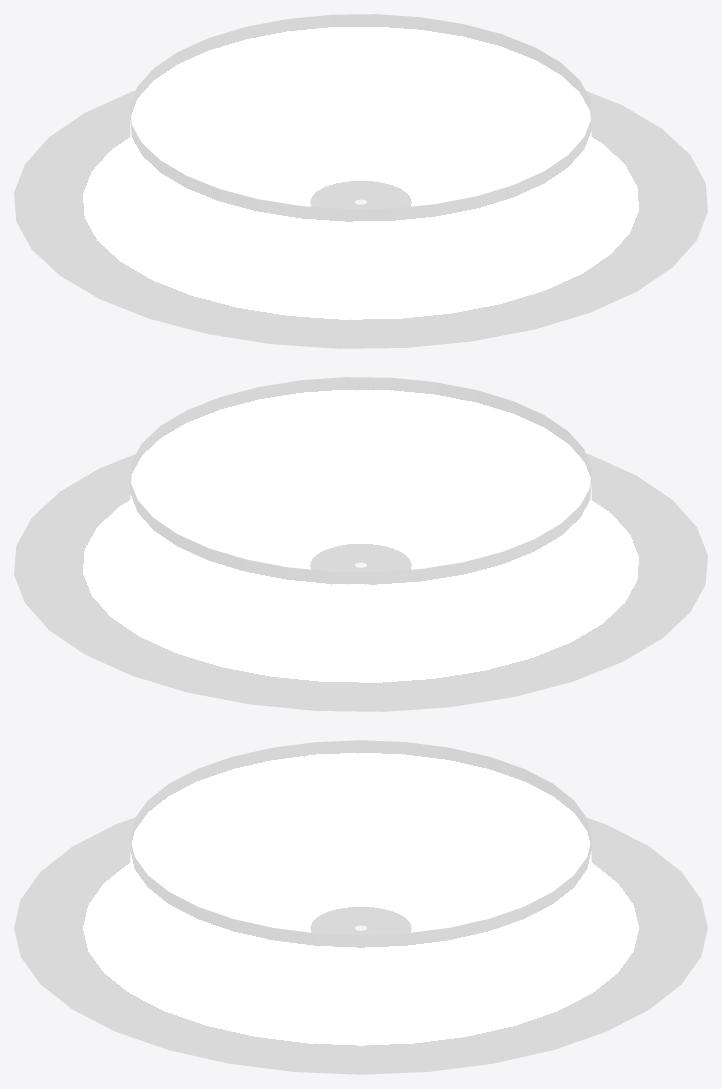
File: circle_butterfly.glb
The picture shows the model from 3 angles, top to bottom: view 1: azimuth 30°, elevation 25°; view 2: azimuth 150°, elevation 25°; view 3: azimuth 270°, elevation 25°; orthographic projection.
Parts seen in each view (by area): view 1: Circle.001; view 2: Circle.001; view 3: Circle.001.
Boxes of the visible parts, x1,y1,x2,y2 form: Circle.001: [14, 14, 707, 348]; Circle.001: [14, 377, 707, 711]; Circle.001: [14, 740, 707, 1074].
Bounding box in the file's own units: 0.1458 × 0.0209 × 0.1458.
Materials: 1 (1 with a texture image).
